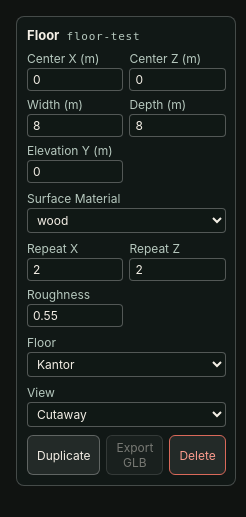
ObjectPanel structure items › reverts invalid or non-numeric input on blur in structure fields and alerts
Replace the text in the number field labelled "Width (m)" with "invalid": {"x": 75, "y": 126} [27,114,123,137]
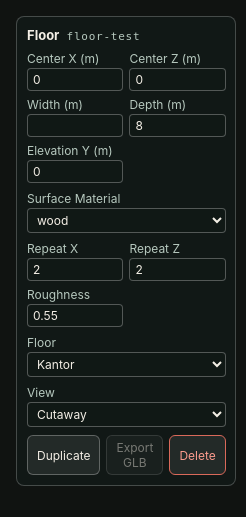
Leave the number field labelled "Width (m)", box [27,114,123,137]
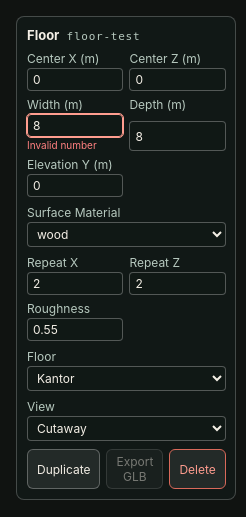
Check: the number field labelled "Width (m) Invalid number" holds "8", box [27,114,123,137]
Check: the text "Invalid number" is shown, box [27,139,97,151]
